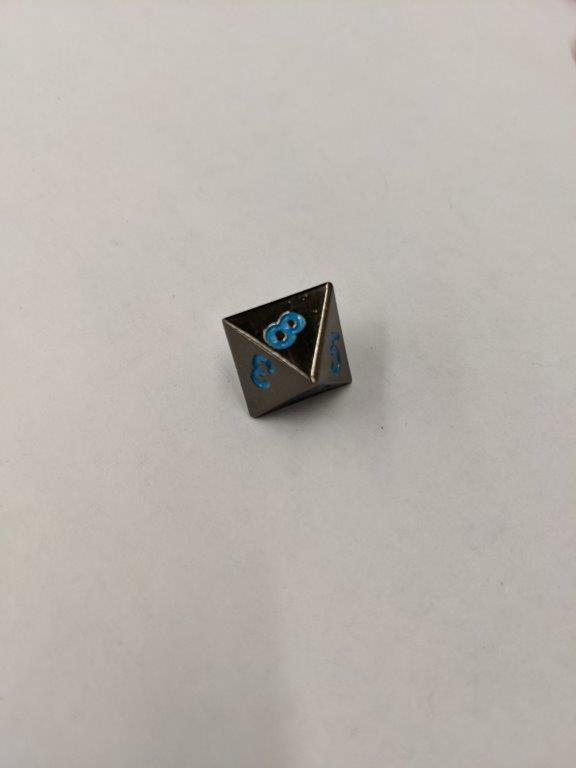d8-8: (223, 280, 353, 421)
